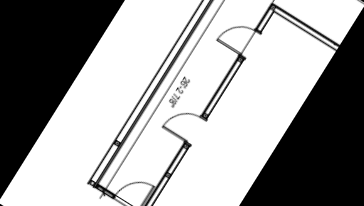door: (157, 101, 208, 151), (213, 13, 262, 61), (112, 168, 160, 206)
